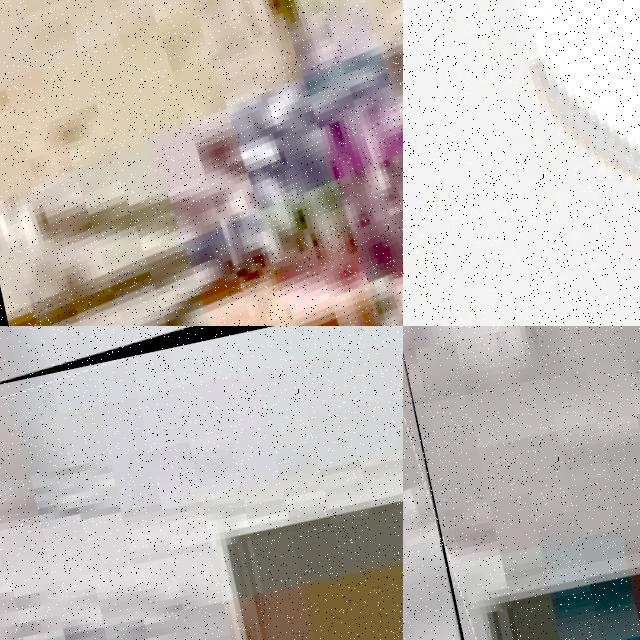0: (0, 0, 403, 326), (0, 326, 403, 391), (403, 326, 473, 640)
drone: (403, 0, 640, 326)
